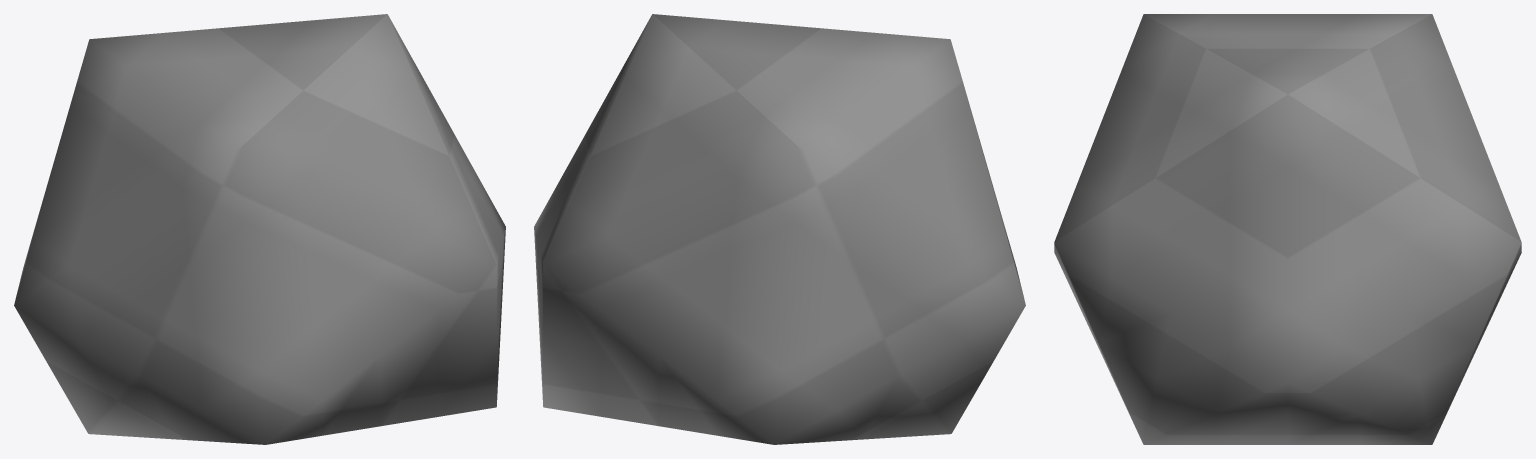
The model's file is rock1_256.FBX.
The picture shows the model from 3 angles, left to right: view 1: azimuth 30°, elevation 25°; view 2: azimuth 150°, elevation 25°; view 3: azimuth 270°, elevation 25°; orthographic projection. The views are drawn at different scales.
Parts seen in each view (by area): view 1: rock1; view 2: rock1; view 3: rock1.
Part boxes in pixels (x1,y1,x2,y2): rock1: (14, 14, 505, 444); rock1: (534, 14, 1025, 444); rock1: (1054, 14, 1521, 444).
Size of the model in its own units: 121 by 104 by 81.85.
